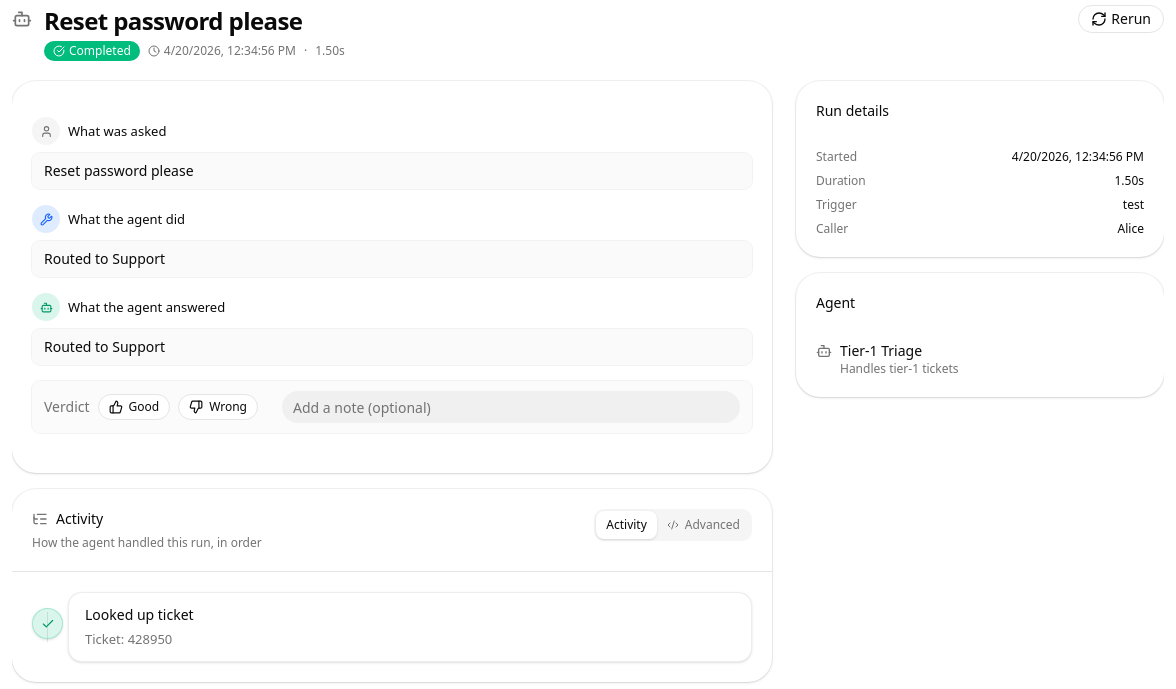
Scenario: AgentRunDetailPage — header + summary › keeps grouped work units in Advanced and nests the raw executor trace
This screenshot has width=1176, height=689.
Expected: the text "Looked up ticket" is shown, [85,605,194,624]
Expected: the text "Ticket: 428950" is shown, [85,630,172,648]
Click the button "Advanced" at (703, 525), box [657,511,750,539]
(page scrolled)
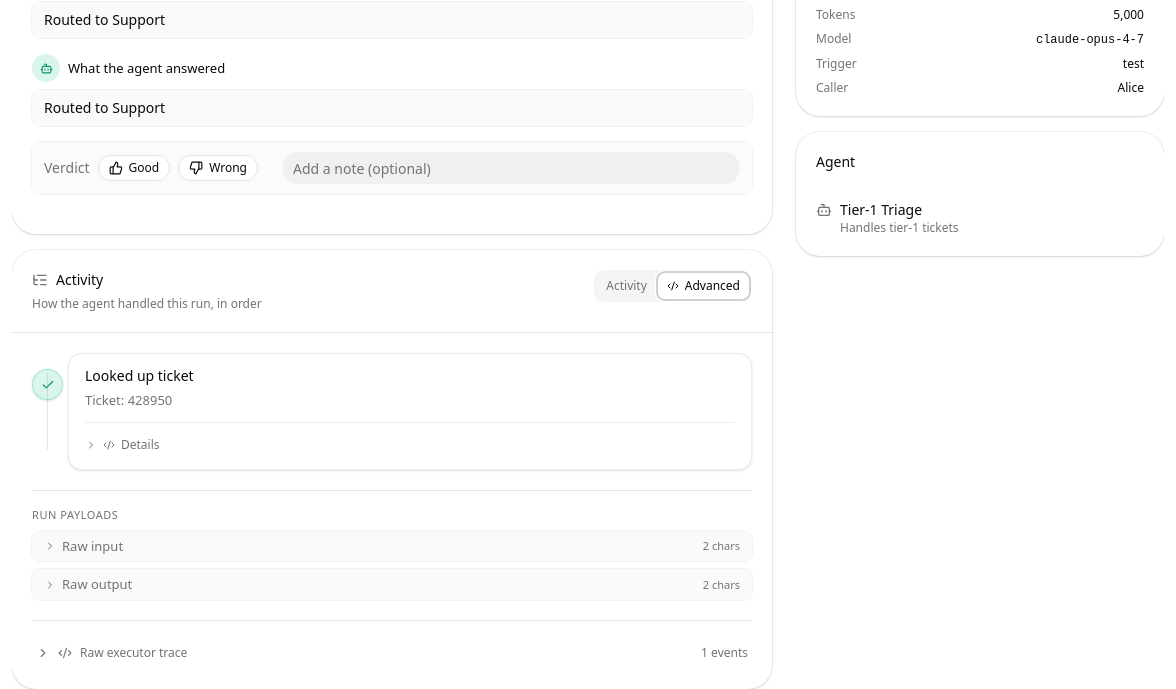
Expected: the text "result from get_ticket" is not shown
Now the text "Raw input" is shown, box [62,537,123,555]
Click the heading "Details" at (122, 444), box [85,436,160,453]
(page scrolled)
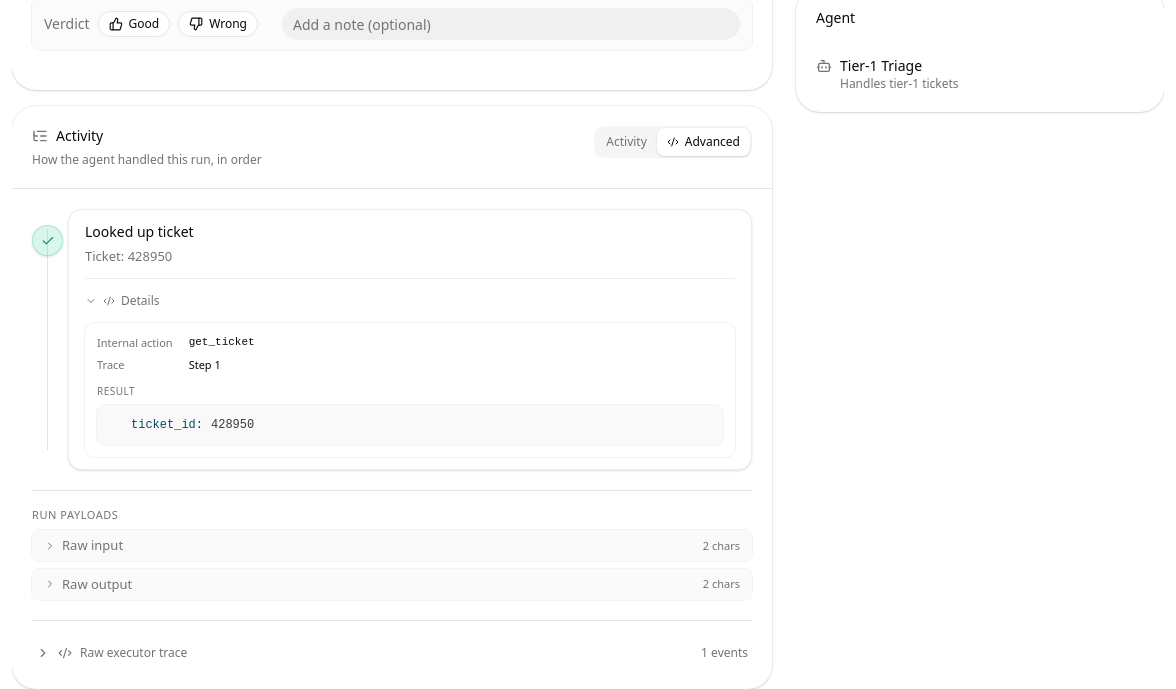
Now the text "get_ticket" is shown, box [189,336,255,348]
Now the text "ticket_id:" is shown, box [131,417,203,433]
Now the text "428950" is shown, box [211,417,254,433]
Click the text "Raw executor trace" at (134, 652), box [80,644,187,660]
(page scrolled)
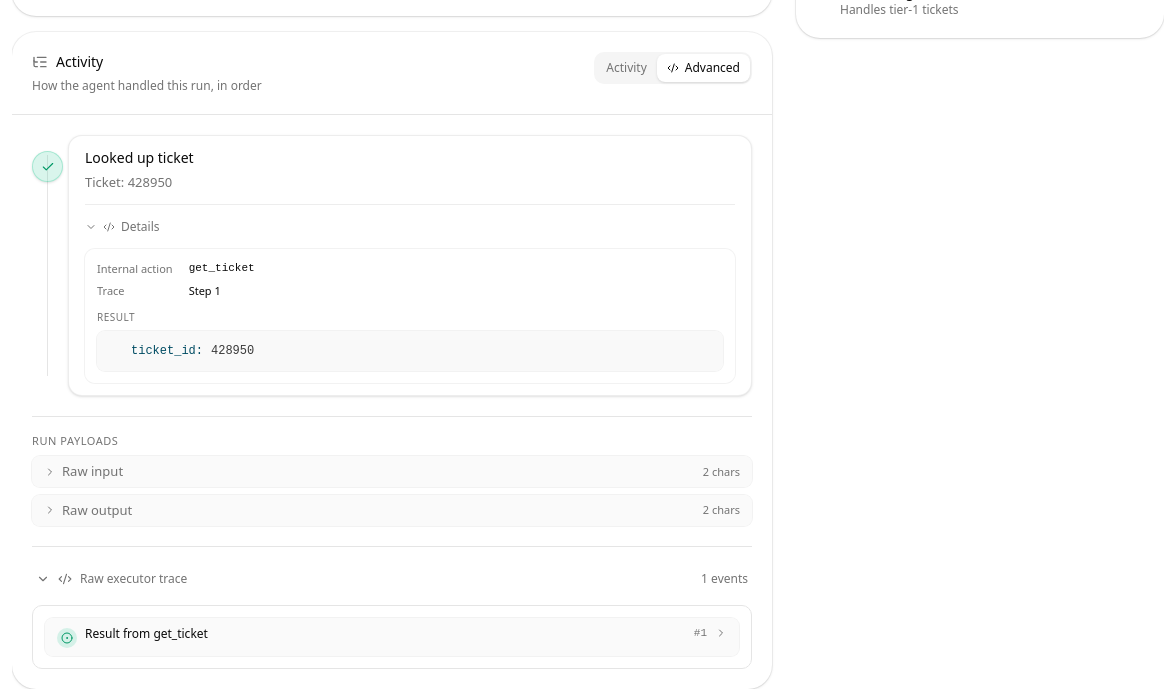
Now the text "Result from get_ticket" is shown, box [85,626,208,642]
